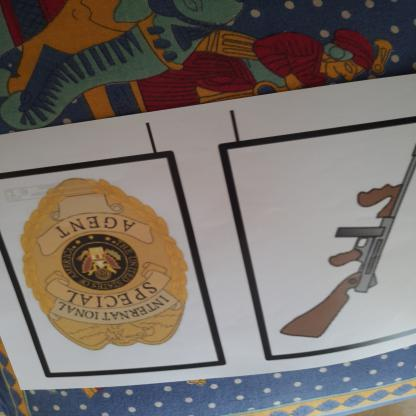Bootlegger: (279, 119, 416, 344)
G-man: (7, 169, 200, 358)
